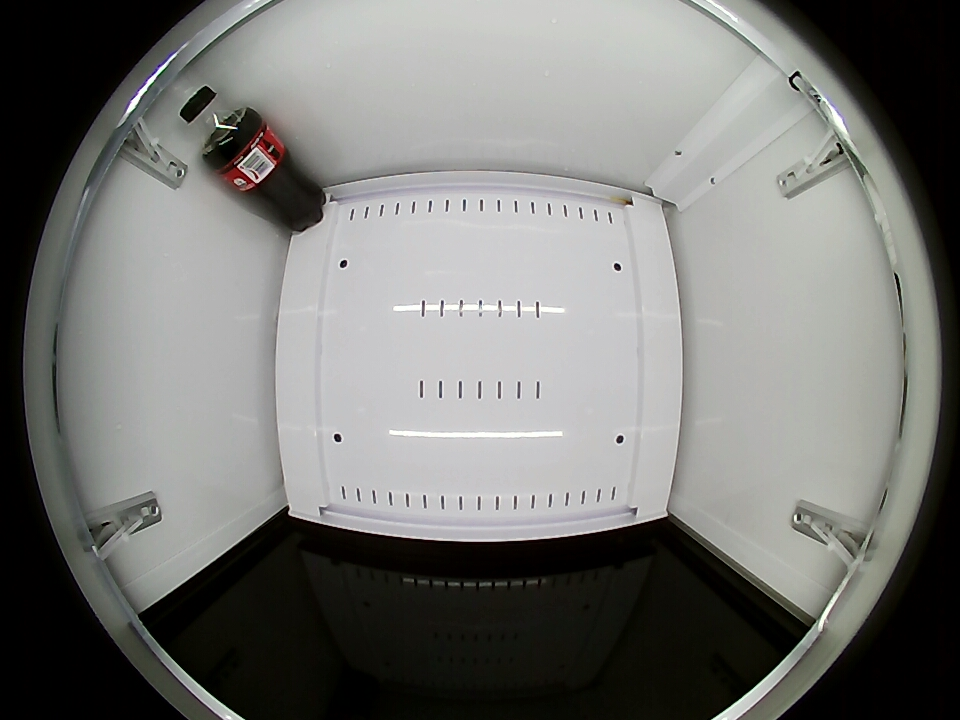lingdukele-b: (179, 87, 251, 160)
